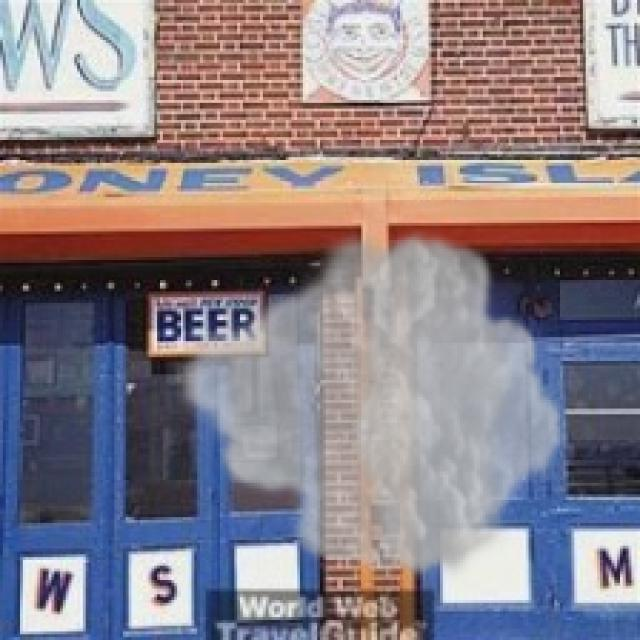smoke: (172, 223, 568, 586)
